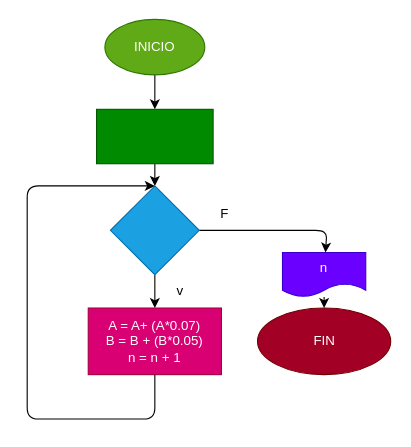
The diagram is 411 pixels wide and 447 high, and some of its shapes have lost their labels. The shapes that lost their labels are listed below. From the top down, each one's box as (x1, y1, x2, y2) in pixels, then its label:
(95, 108, 213, 164): A = 3.5 B = 5 n = 1980
(109, 185, 199, 275): B > A
